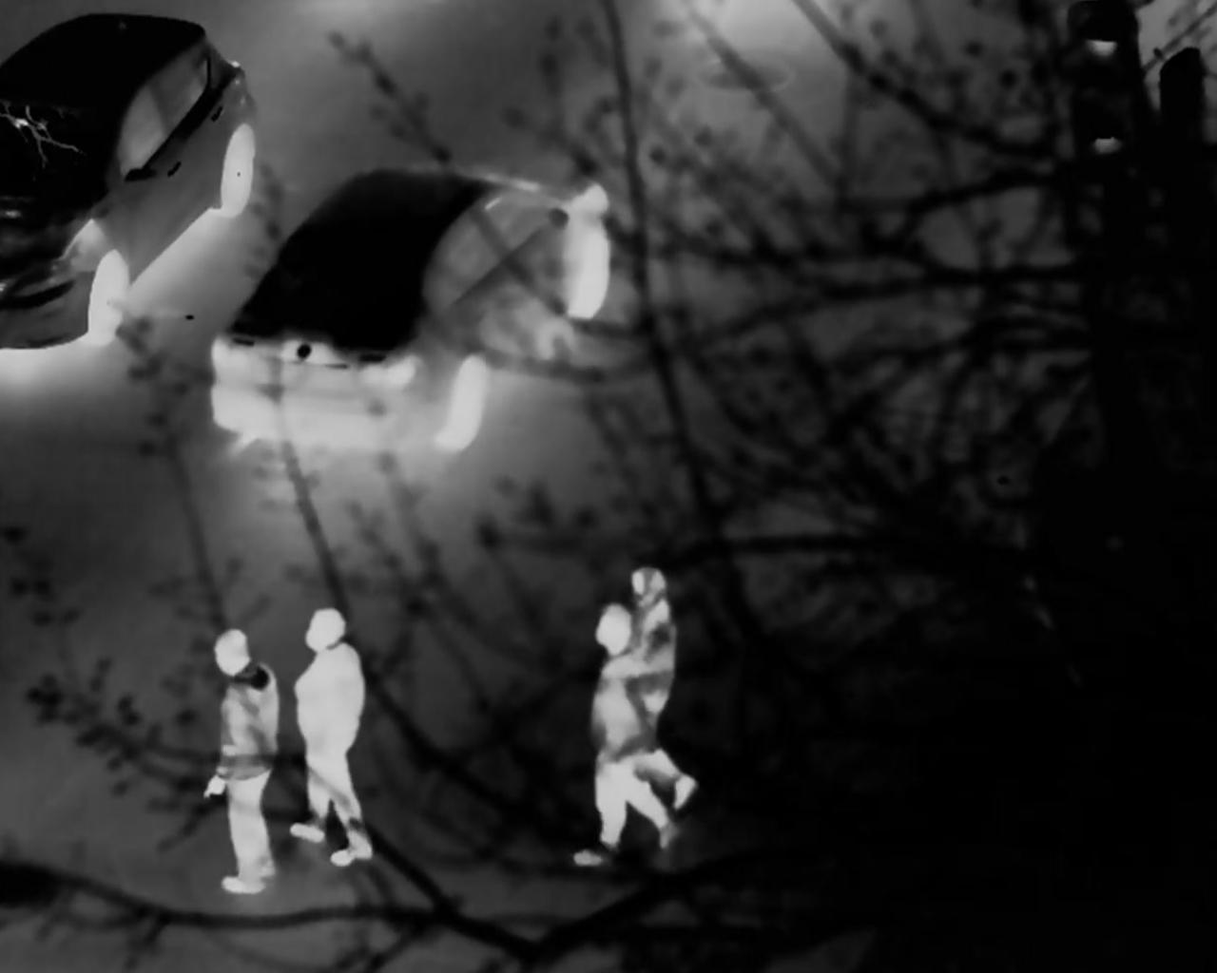person: (579, 602, 679, 872), (281, 601, 369, 864), (616, 559, 699, 811), (208, 633, 283, 887)
